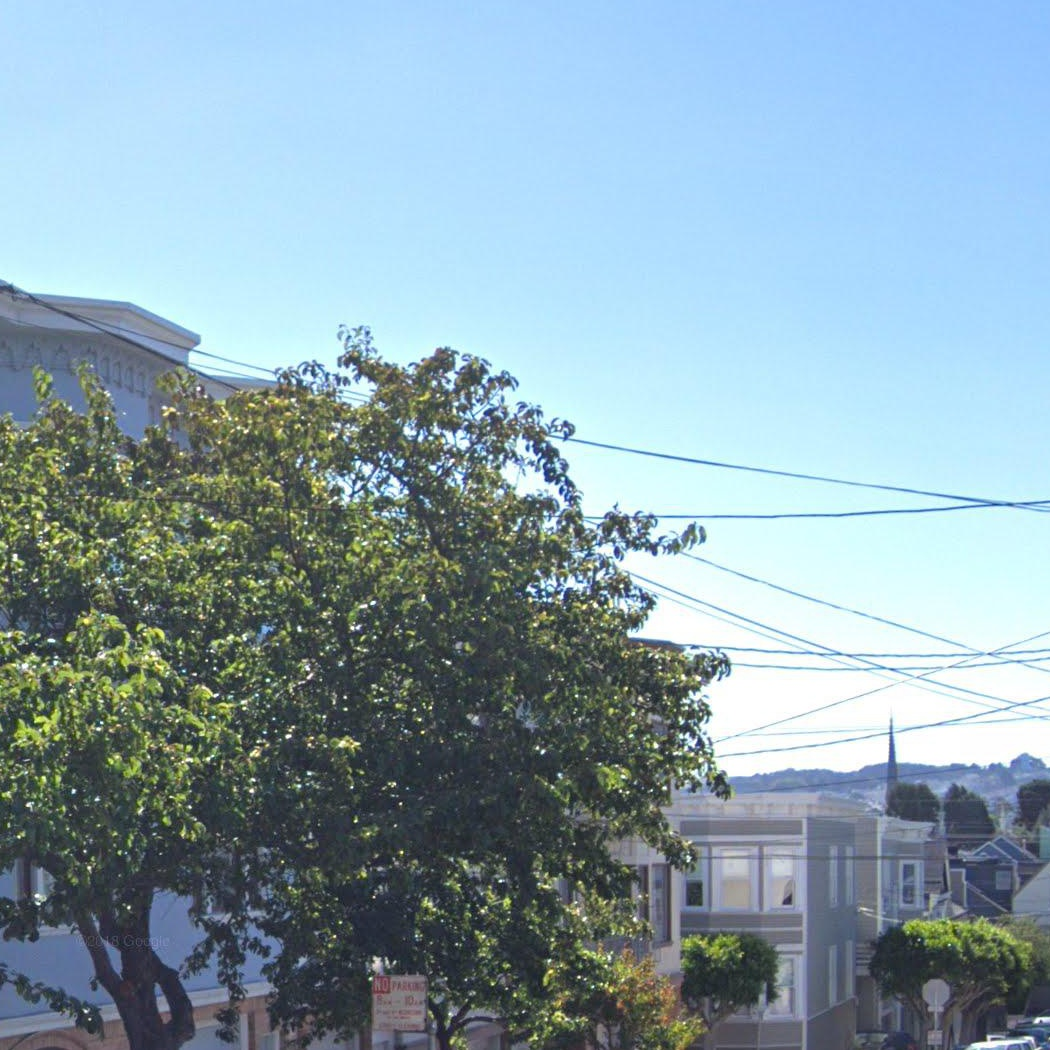No Parking: (369, 973, 430, 1036)
